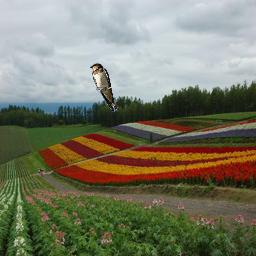Swallow: (89, 63, 118, 112)
